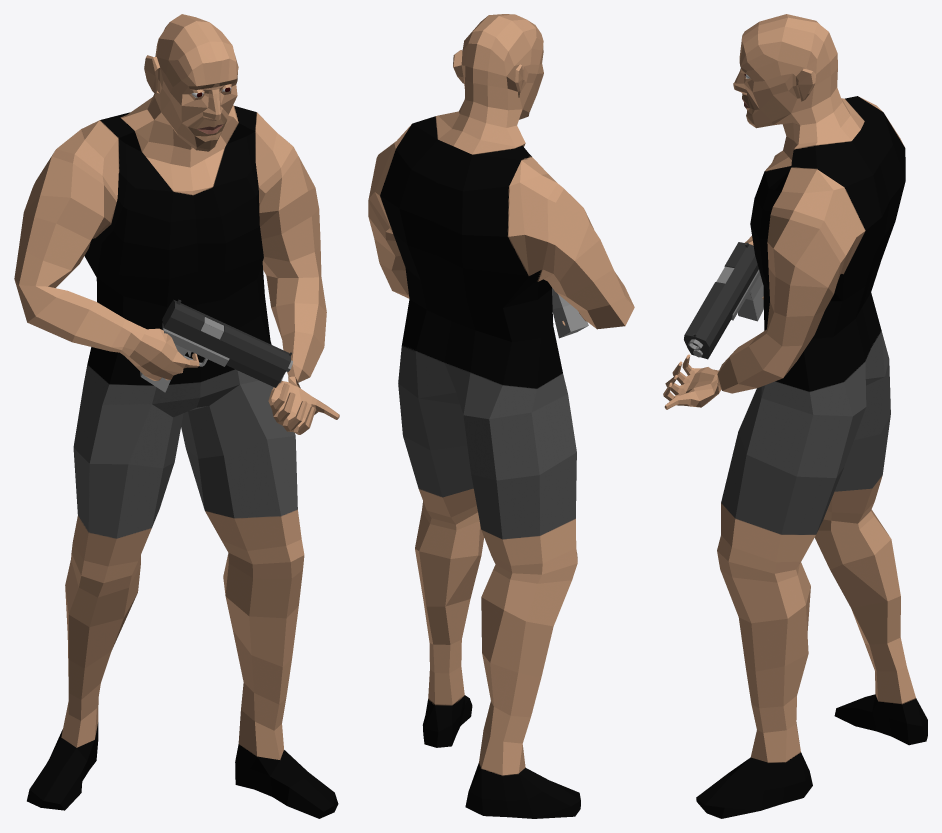
Rendered from PlayerIdle(88).obj.
3 renders of one model, left to right at view 1: azimuth 30°, elevation 25°; view 2: azimuth 150°, elevation 25°; view 3: azimuth 270°, elevation 25°, orthographic. The views are drawn at different scales.
Parts seen in each view (by area): view 1: Plane002, Box003; view 2: Plane002, Box003; view 3: Plane002, Box003.
Part boxes in pixels (x1=…): Plane002: x1=14, y1=14, x2=339, y2=818; Box003: x1=140, y1=299, x2=292, y2=392; Plane002: x1=368, y1=14, x2=634, y2=818; Box003: x1=552, y1=288, x2=588, y2=338; Plane002: x1=663, y1=14, x2=927, y2=818; Box003: x1=684, y1=242, x2=763, y2=359.
Size of the model in its own units: 672 by 1801 by 576.
